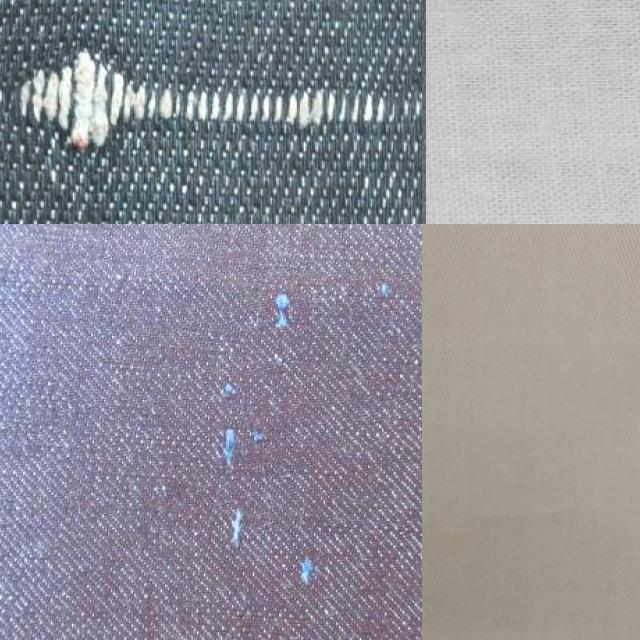stains: (108, 248, 422, 640), (0, 7, 422, 224), (422, 291, 463, 640)
